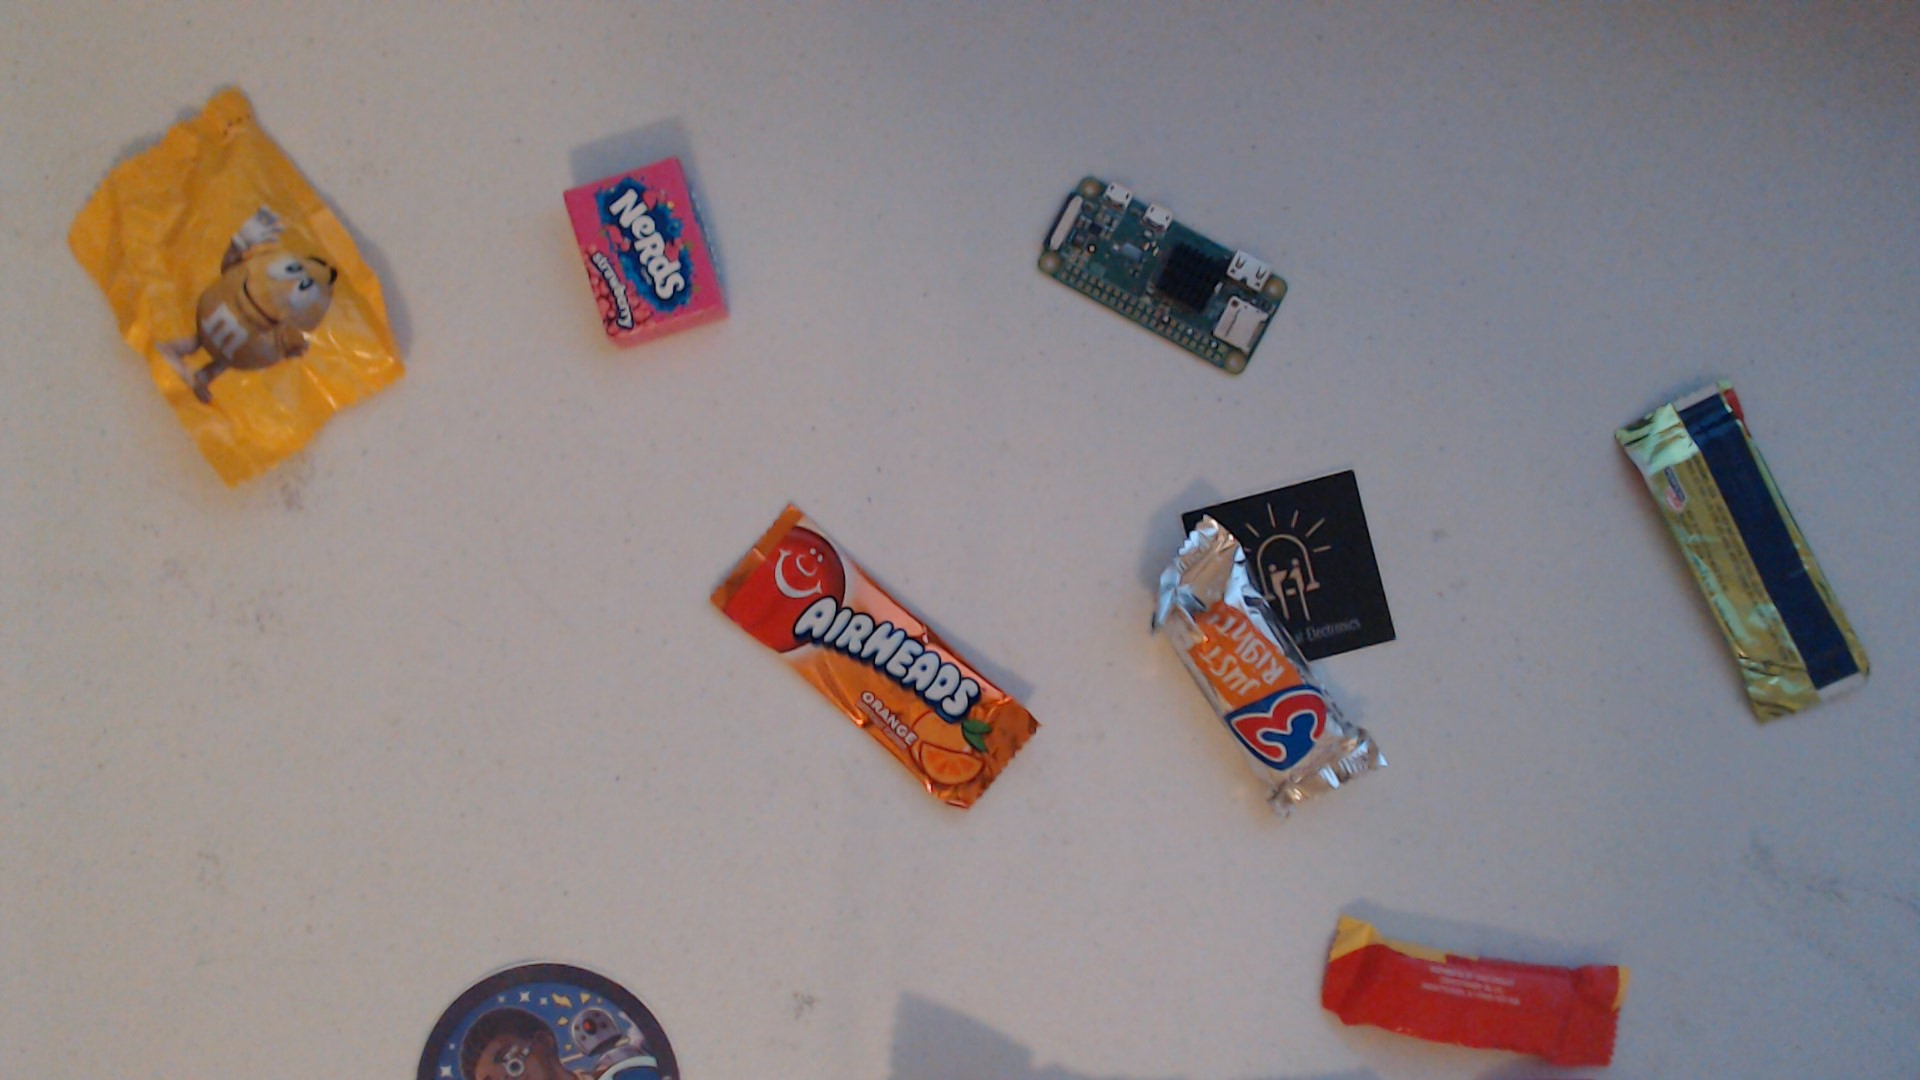MMs_peanut: (66, 104, 411, 480)
airheads: (698, 493, 1043, 818)
nerds: (534, 156, 737, 351)
starbust: (1308, 880, 1640, 1069)
three_musketeers: (1097, 484, 1391, 827)
